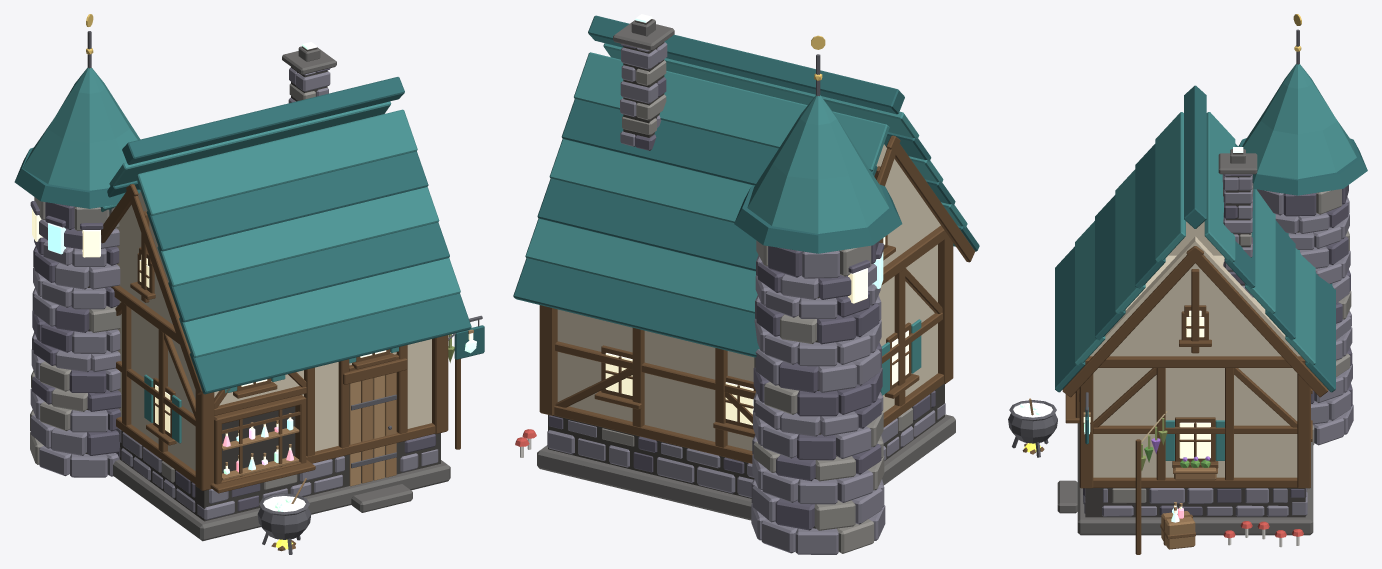
Rendered from shop_alchemist.glb.
3 views of the same model, side by side, from view 1: azimuth 30°, elevation 25°; view 2: azimuth 150°, elevation 25°; view 3: azimuth 270°, elevation 25° (orthographic). The views are drawn at different scales.
Visible parts, largest first — view 1: Alchemist; view 2: Alchemist; view 3: Alchemist.
Boxes of the visible parts, x1,y1,x2,y2 form: Alchemist: (14, 14, 484, 554); Alchemist: (513, 14, 979, 554); Alchemist: (1008, 14, 1367, 554).
Bounding box in the file's own units: 6.57 × 7.97 × 6.32.
